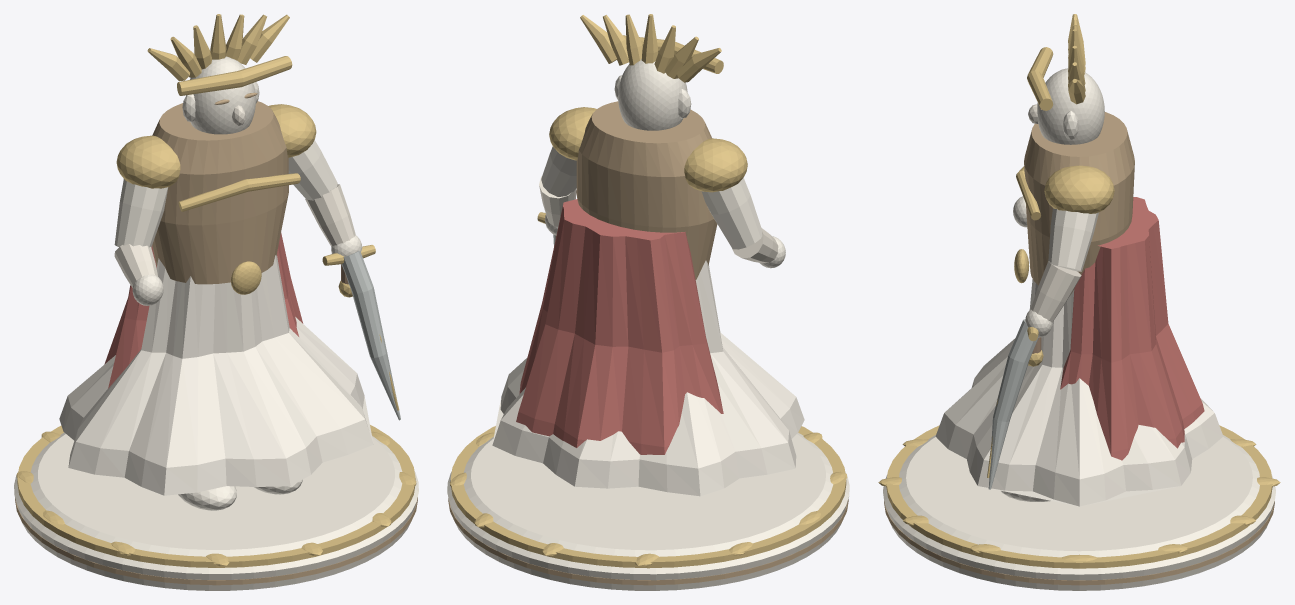
3 views of the same model, side by side, from view 1: azimuth 30°, elevation 25°; view 2: azimuth 150°, elevation 25°; view 3: azimuth 270°, elevation 25° (orthographic). The views are drawn at different scales.
Visible parts, largest first — view 1: Samrajni_Skirt, Plinth_Stone, Samrajni_Cuirass, Plinth_GoldRim, Samrajni_CrimsonOverSkirt, Samrajni_Head, Samrajni_Talwar_Blade, Samrajni_LeftArm_Pauldron, Samrajni_LeftArm_Upper, Plinth_BronzeFillet, Samrajni_BrowCrest, Samrajni_RightArm_Fore (+14 smaller); view 2: Samrajni_CrimsonOverSkirt, Plinth_Stone, Samrajni_Skirt, Samrajni_Cuirass, Plinth_GoldRim, Samrajni_Head, Samrajni_LeftArm_Pauldron, Samrajni_LeftArm_Upper, Plinth_BronzeFillet, Samrajni_RightArm_Pauldron, Samrajni_RightArm_Upper, Samrajni_LeftArm_Fore (+8 smaller); view 3: Plinth_Stone, Samrajni_Skirt, Samrajni_CrimsonOverSkirt, Samrajni_Cuirass, Plinth_GoldRim, Samrajni_Head, Samrajni_RightArm_Pauldron, Samrajni_Talwar_Blade, Samrajni_RightArm_Upper, Plinth_BronzeFillet, Samrajni_RightArm_Fore, Samrajni_BrowCrest (+1 smaller).
Part boxes in pixels (x1,y1,x2,y2): Samrajni_Skirt: (59, 255, 373, 495); Plinth_Stone: (14, 432, 418, 590); Samrajni_Cuirass: (152, 101, 288, 284); Plinth_GoldRim: (17, 425, 415, 567); Samrajni_CrimsonOverSkirt: (104, 232, 303, 388); Samrajni_Head: (186, 56, 255, 134); Samrajni_Talwar_Blade: (341, 251, 400, 420); Samrajni_LeftArm_Pauldron: (116, 135, 180, 188); Samrajni_LeftArm_Upper: (114, 179, 168, 247); Plinth_BronzeFillet: (15, 497, 417, 585); Samrajni_BrowCrest: (177, 56, 292, 95); Samrajni_RightArm_Fore: (305, 184, 355, 246); Samrajni_CrimsonOverSkirt: (516, 199, 723, 454); Plinth_Stone: (447, 432, 849, 590); Samrajni_Skirt: (492, 260, 804, 496); Samrajni_Cuirass: (576, 101, 717, 279); Plinth_GoldRim: (450, 426, 846, 568); Samrajni_Head: (618, 59, 687, 130); Samrajni_LeftArm_Pauldron: (684, 138, 747, 192); Samrajni_LeftArm_Upper: (701, 178, 762, 249); Plinth_BronzeFillet: (448, 498, 848, 585); Samrajni_RightArm_Pauldron: (549, 107, 596, 160); Samrajni_RightArm_Upper: (541, 146, 576, 196); Samrajni_LeftArm_Fore: (732, 228, 778, 263); Plinth_Stone: (883, 435, 1275, 590); Samrajni_Skirt: (935, 279, 1223, 506); Samrajni_CrimsonOverSkirt: (1060, 197, 1204, 460); Samrajni_Cuirass: (1024, 112, 1134, 295); Plinth_GoldRim: (886, 425, 1272, 568); Samrajni_Head: (1037, 68, 1104, 144); Samrajni_RightArm_Pauldron: (1044, 165, 1114, 213); Samrajni_Talwar_Blade: (988, 319, 1038, 489); Samrajni_RightArm_Upper: (1048, 208, 1098, 271); Plinth_BronzeFillet: (884, 501, 1274, 585); Samrajni_RightArm_Fore: (1030, 261, 1081, 322); Samrajni_BrowCrest: (1027, 47, 1053, 110).
Bounding box in the file's own units: 0.68 × 0.9151 × 0.696.
